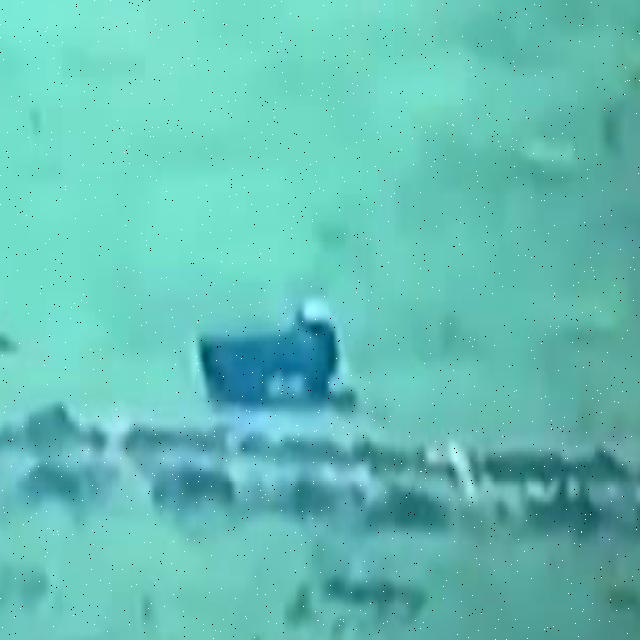TRUCK: (198, 295, 336, 407)
